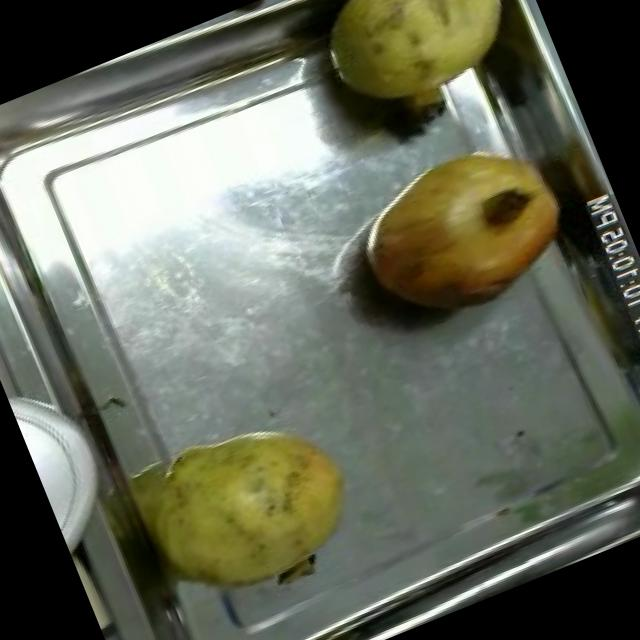fruit: (118, 382, 392, 638), (328, 115, 588, 344), (290, 0, 545, 154)
